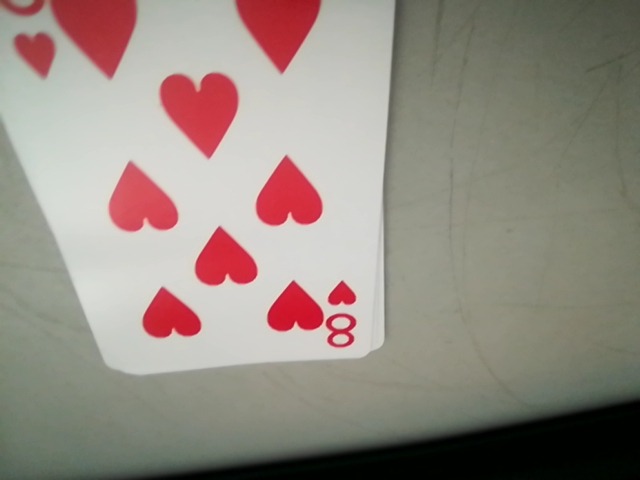hx 8: (325, 278, 359, 350)
